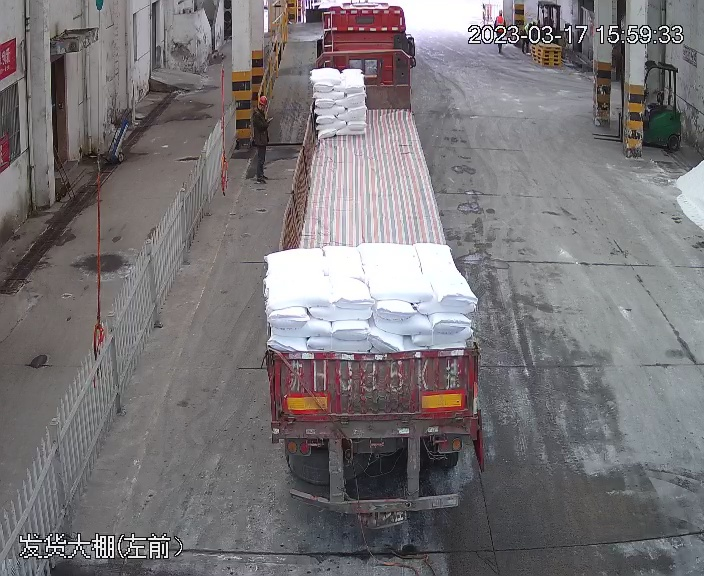head: (247, 95, 273, 121)
helmet: (258, 93, 269, 107)
people: (247, 94, 275, 186)
truck: (260, 2, 492, 532)
